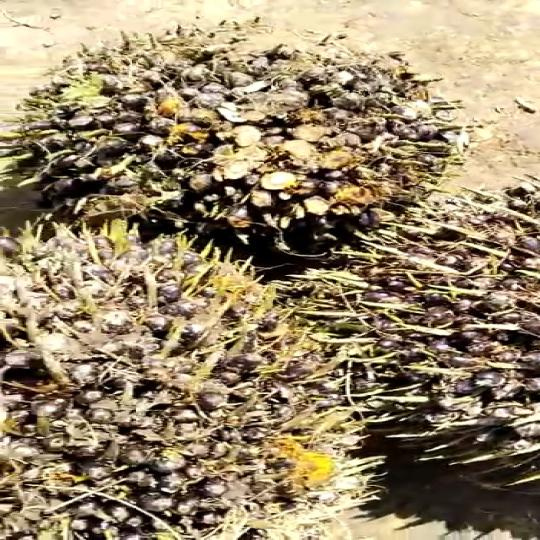mentah: (0, 223, 362, 528), (20, 3, 438, 254), (332, 194, 540, 514)
